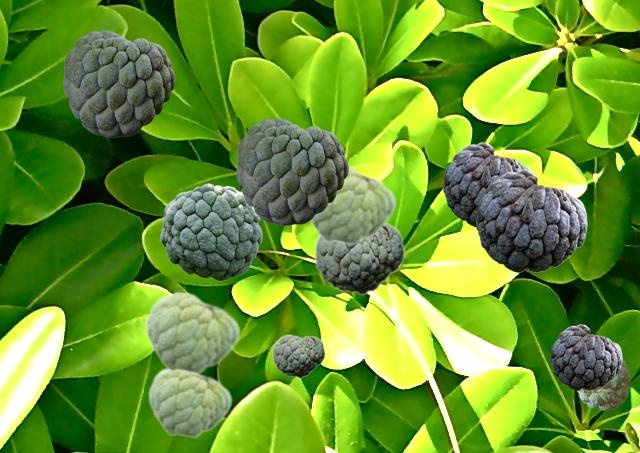atis: (63, 30, 174, 136), (236, 118, 347, 224), (476, 169, 586, 271), (160, 183, 261, 280), (144, 290, 239, 374), (443, 142, 532, 226), (308, 162, 395, 245), (314, 222, 404, 294), (147, 367, 231, 438), (550, 324, 621, 389), (576, 358, 629, 409), (272, 334, 324, 377)
